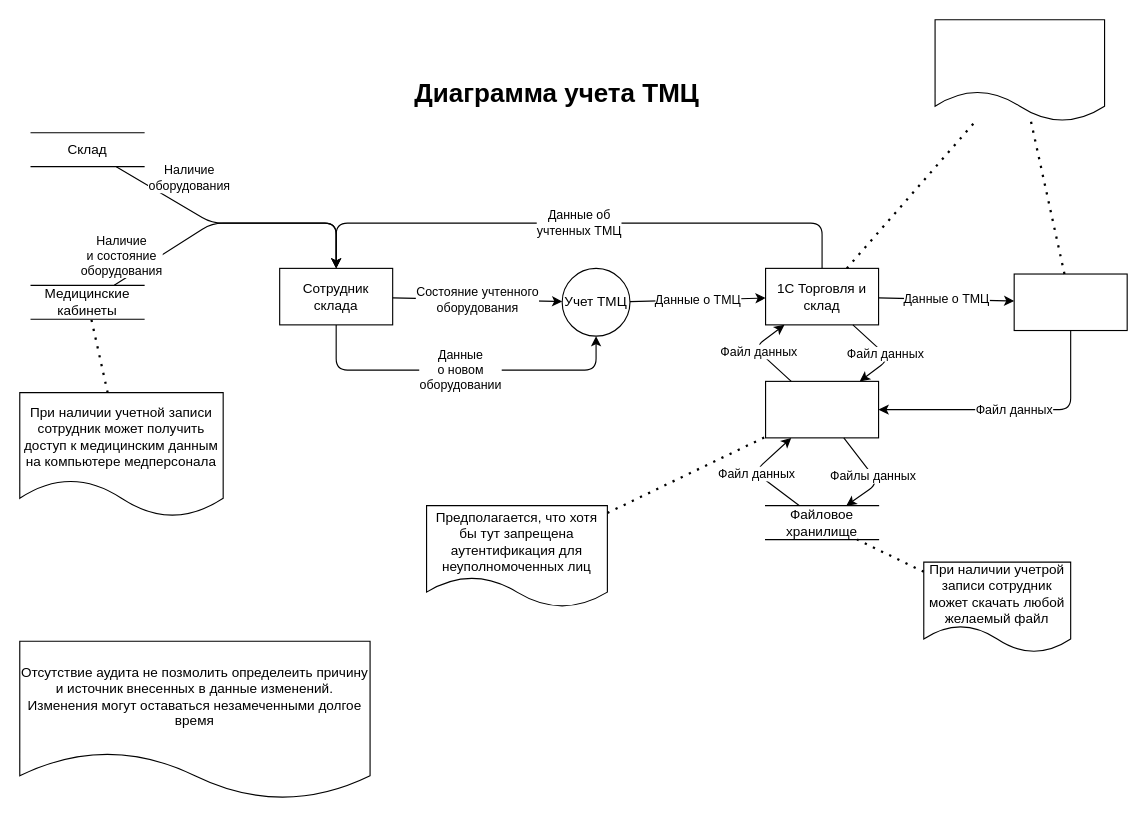
Image size: 1147x819. Some labels were removed from this diagram. The centre of each missing label's shape, as x and y in pixels:
1С Бухгалтерия предприятия: (1070,302)
Microsoft Windows Server 2022: (821,409)
Отсутствует контроль к данным, неотносящимся к оборудованию: (1019,70)
